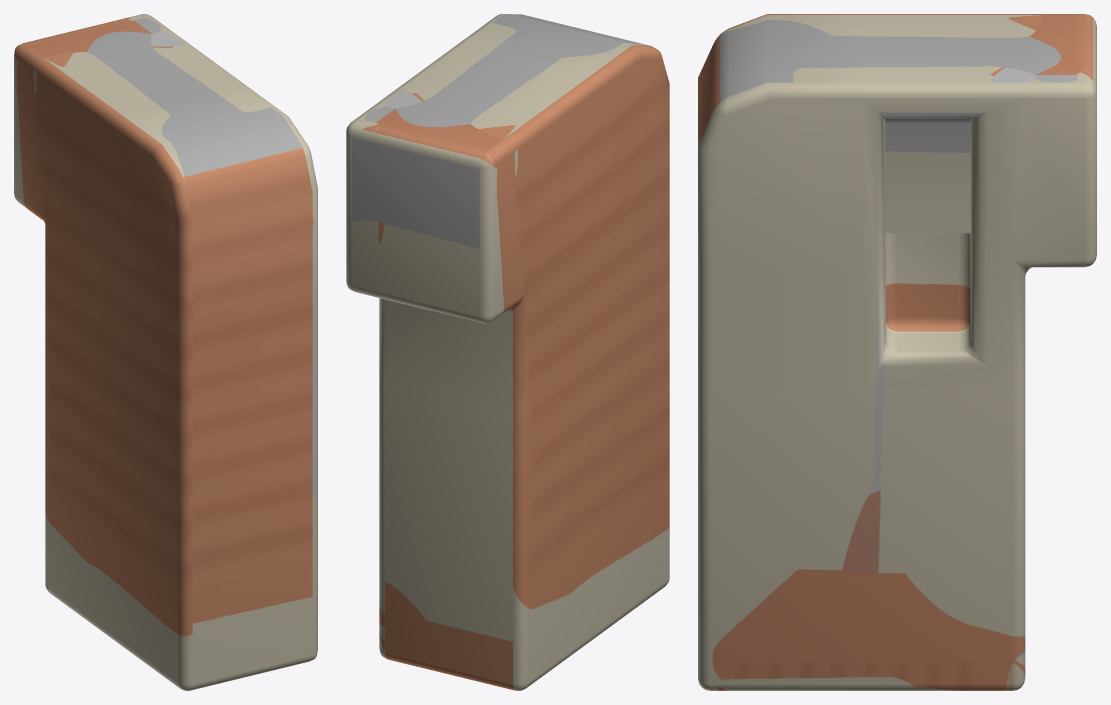
Rendered from Mesh_Enviro_Milkshake_Machine.fbx.
3 renders of one model, left to right at view 1: azimuth 30°, elevation 25°; view 2: azimuth 150°, elevation 25°; view 3: azimuth 270°, elevation 25°, orthographic. The views are drawn at different scales.
Parts seen in each view (by area): view 1: milkshake_machine; view 2: milkshake_machine; view 3: milkshake_machine.
Boxes of the visible parts, box(x1,y1,x2,y2) form: milkshake_machine: box(14, 14, 317, 690); milkshake_machine: box(346, 14, 669, 690); milkshake_machine: box(698, 14, 1096, 690).
Size of the model in its own units: 39.65 by 144 by 85.79.
